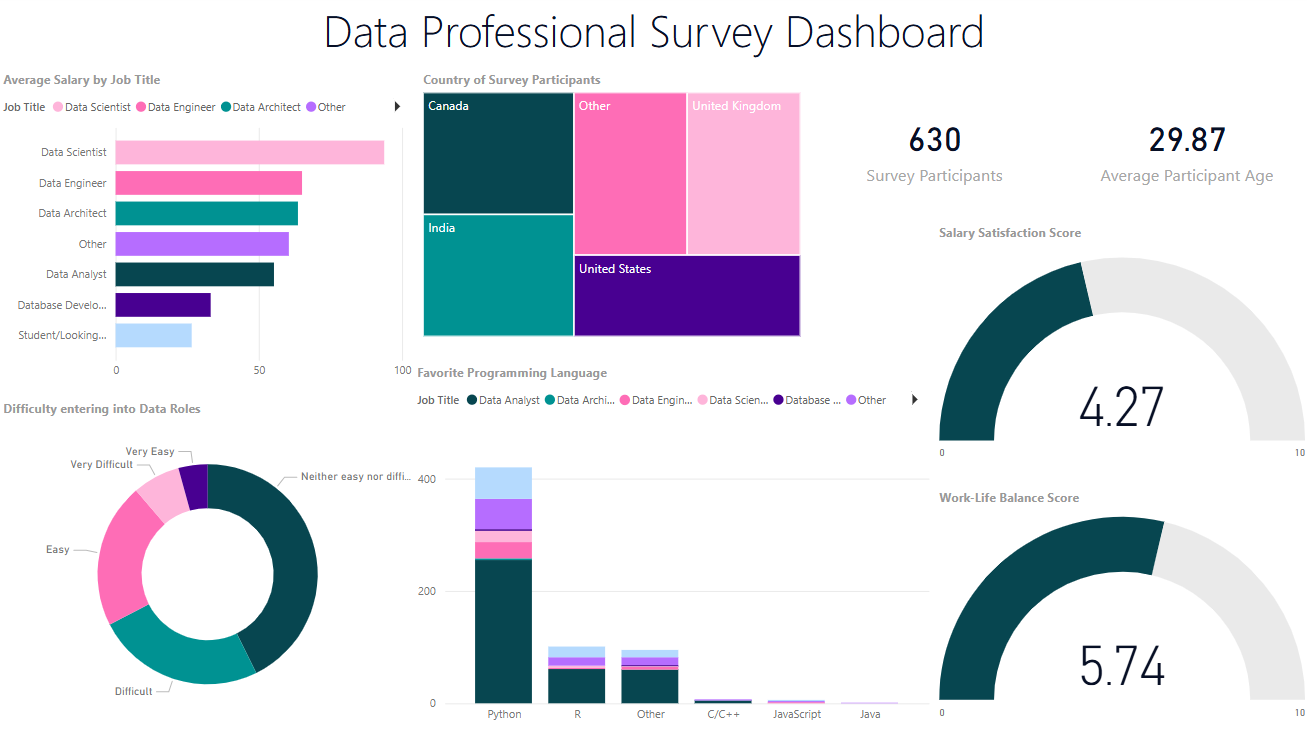

This screenshot's page, from the dashboard's own definition file:
{"tool":"powerbi","page":{"name":"Page 1","canvas":[1280,720],"ordinal":0},"visuals":[{"type":"textbox","box":[0,0,1280,74.2],"z":0},{"type":"card","fields":{"Values":["Count(Data Professional Survey.Unique ID)"]},"box":[787,74.2,252.7,149.7],"z":1000},{"type":"card","fields":{"Values":["Avg(Data Professional Survey.Q10 - Current Age)"]},"box":[1039.7,74.2,240.3,149.7],"z":2000},{"type":"barChart","title":"Average Salary by Job Title","fields":{"Category":["Data Professional Survey.Q1 - Which Title Best Fits your Current Role?.1"],"Y":["Avg(Data Professional Survey.Average Salary)"],"Series":["Data Professional Survey.Q1 - Which Title Best Fits your Current Role?.1"]},"box":[0,74.2,409.3,310.4],"z":3000},{"type":"columnChart","title":"Favorite Programming Language","fields":{"Category":["Data Professional Survey.Q5 - Favorite Programming Language.1"],"Y":["CountNonNull(Data Professional Survey.Unique ID)"],"Series":["Data Professional Survey.Q1 - Which Title Best Fits your Current Role?.1"]},"box":[403.8,359.8,509.5,359.8],"z":4000},{"type":"treemap","title":"Country of Survey Participants","fields":{"Group":["Data Professional Survey.Q11 - Which Country do you live in?.1"],"Values":["Count(Data Professional Survey.Q11 - Which Country do you live in?.1)"]},"box":[409.3,74.2,377.7,263.7],"z":5000},{"type":"gauge","title":"Work-Life Balance Score","fields":{"Y":["Avg(Data Professional Survey.Q6 - How Happy are you in your Current Position with the following? (Work/Life Balance))"],"MinValue":["Min(Data Professional Survey.Q6 - How Happy are you in your Current Position with the following? (Work/Life Balance))"],"MaxValue":["Max(Data Professional Survey.Q6 - How Happy are you in your Current Position with the following? (Work/Life Balance))"]},"box":[913.3,482.1,366.7,237.6],"z":6000},{"type":"gauge","title":"Salary Satisfaction Score","fields":{"Y":["Avg(Data Professional Survey.Q6 - How Happy are you in your Current Position with the following? (Salary))"],"MinValue":["Min(Data Professional Survey.Q6 - How Happy are you in your Current Position with the following? (Salary))"],"MaxValue":["Max(Data Professional Survey.Q6 - How Happy are you in your Current Position with the following? (Salary))"]},"box":[913.3,223.9,366.7,248.6],"z":7000},{"type":"donutChart","title":"Difficulty entering into Data Roles","fields":{"Category":["Data Professional Survey.Q7 - How difficult was it for you to break into Data?"],"Y":["CountNonNull(Data Professional Survey.Average Salary)"]},"box":[0,395.5,409.3,324.1],"z":8000}]}

Visuals, with their boxes in screenshot pixels (x1, y1, x2, y2), scaled from the page's 1280x720 canvas onto the 1307x731 screenshot:
textbox: region(0, 0, 1306, 75)
card - Count(Data Professional Survey.Unique ID): region(804, 75, 1062, 227)
card - Avg(Data Professional Survey.Q10 - Current Age): region(1062, 75, 1306, 227)
"Average Salary by Job Title" barChart: region(0, 75, 418, 390)
"Favorite Programming Language" columnChart: region(412, 365, 933, 730)
"Country of Survey Participants" treemap: region(418, 75, 804, 343)
"Work-Life Balance Score" gauge: region(933, 489, 1306, 730)
"Salary Satisfaction Score" gauge: region(933, 227, 1306, 480)
"Difficulty entering into Data Roles" donutChart: region(0, 402, 418, 730)
